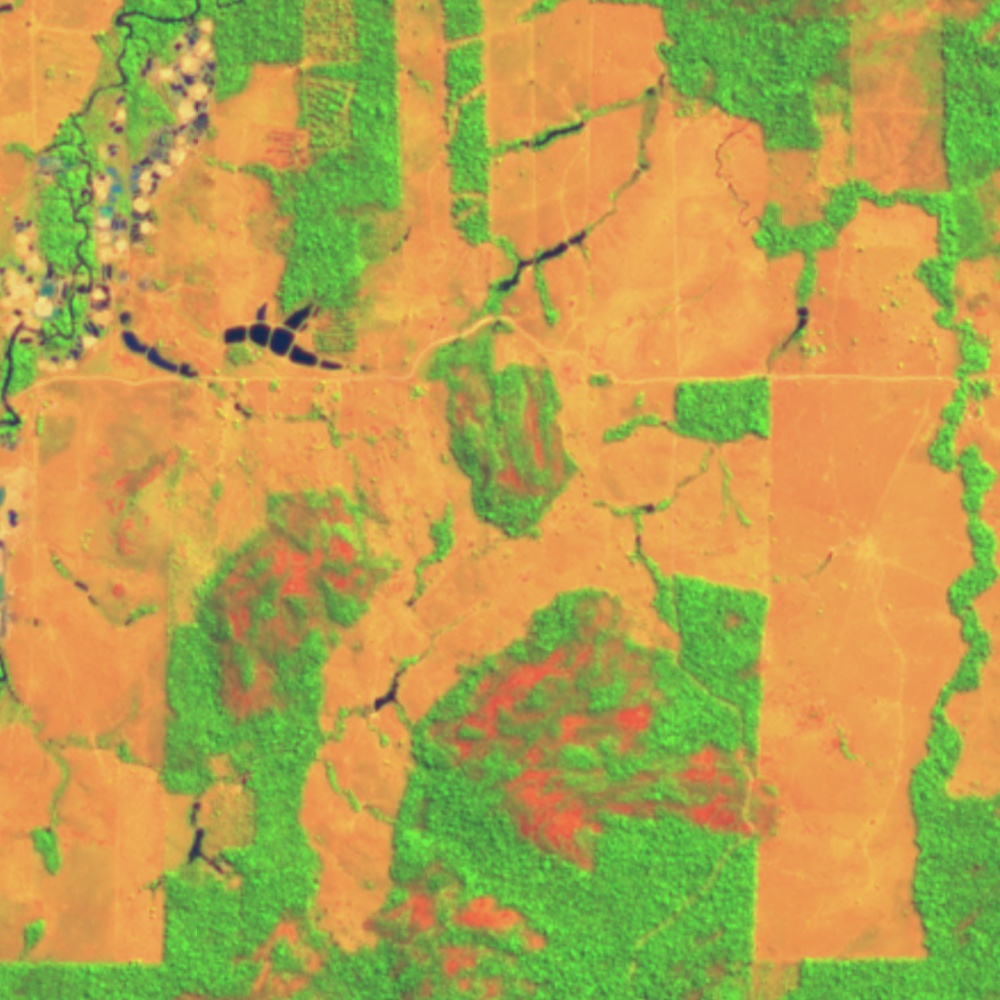illegal: (1, 16, 222, 378), (112, 311, 254, 414), (221, 291, 353, 378), (488, 215, 602, 297), (1, 482, 25, 701), (69, 569, 138, 627), (184, 796, 231, 877), (510, 114, 594, 152), (368, 662, 418, 718), (781, 302, 813, 349)
